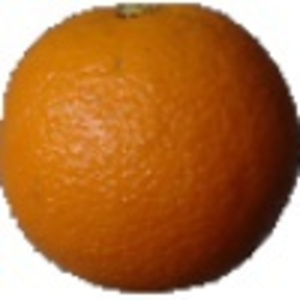laranja: (2, 3, 298, 297)
